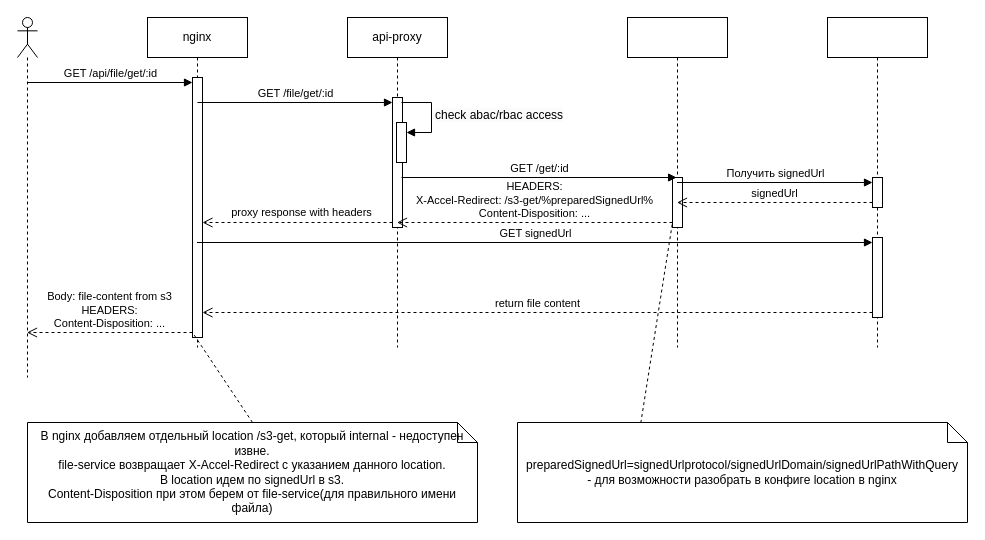
Some shapes in this 985 by 540 pixel diagram are drawn without their labels. The box of each missing label's shape, as (x1, y1, x2, y2) in pixels:
file-service: (626, 16, 728, 348)
S3: (826, 16, 928, 348)
